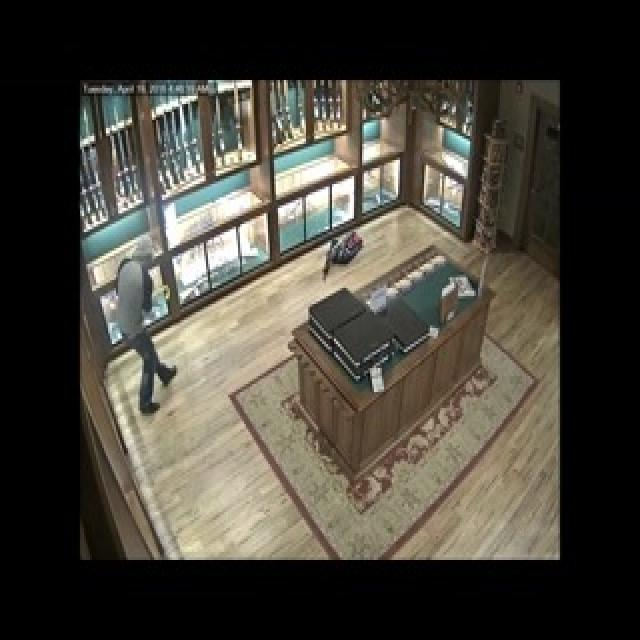thief: (106, 233, 172, 400)
